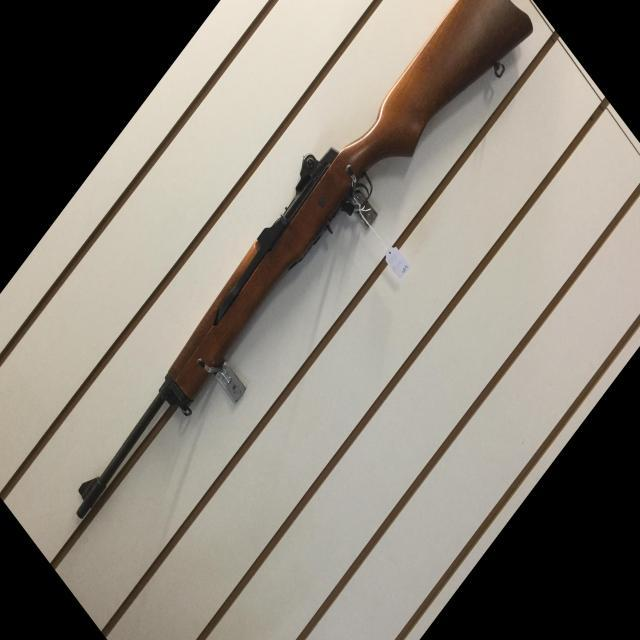weapon: (77, 0, 534, 522)
